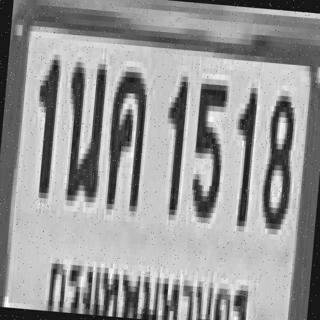A04: (102, 65, 147, 206)
A25: (60, 53, 106, 200)
N01: (227, 81, 257, 221), (29, 51, 59, 190), (158, 70, 187, 210)
N05: (188, 78, 226, 218)
N08: (258, 90, 296, 224)
P04: (43, 248, 261, 320)
